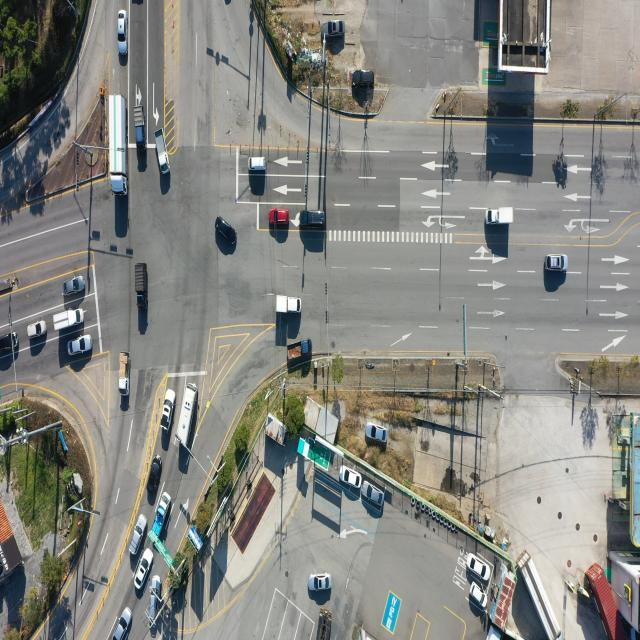car: (136, 547, 154, 589), (130, 514, 148, 556), (110, 606, 132, 640), (214, 216, 237, 247), (162, 390, 176, 434), (147, 458, 162, 498), (470, 555, 492, 582), (321, 21, 346, 43), (299, 210, 326, 230), (362, 484, 384, 508), (68, 336, 92, 357), (469, 583, 487, 609), (0, 333, 18, 359), (341, 465, 362, 487), (63, 276, 86, 296), (117, 10, 127, 54), (310, 572, 332, 591), (364, 423, 386, 442), (27, 319, 47, 339), (352, 69, 374, 86), (546, 254, 568, 270), (271, 209, 289, 225), (249, 158, 267, 173)
medium_truck: (521, 550, 563, 638), (109, 92, 131, 195), (317, 606, 331, 640)
small_bus: (178, 384, 201, 447)
small_truck: (150, 491, 171, 536), (53, 307, 85, 332), (135, 263, 149, 311), (156, 130, 170, 174), (134, 103, 146, 153), (286, 340, 312, 362), (486, 208, 514, 227), (276, 296, 302, 316), (118, 352, 129, 396)
